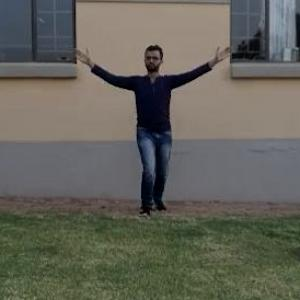takeoff: (68, 40, 222, 206)
